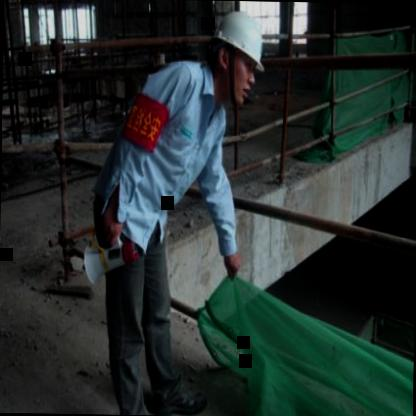helmet: (206, 0, 272, 107)
